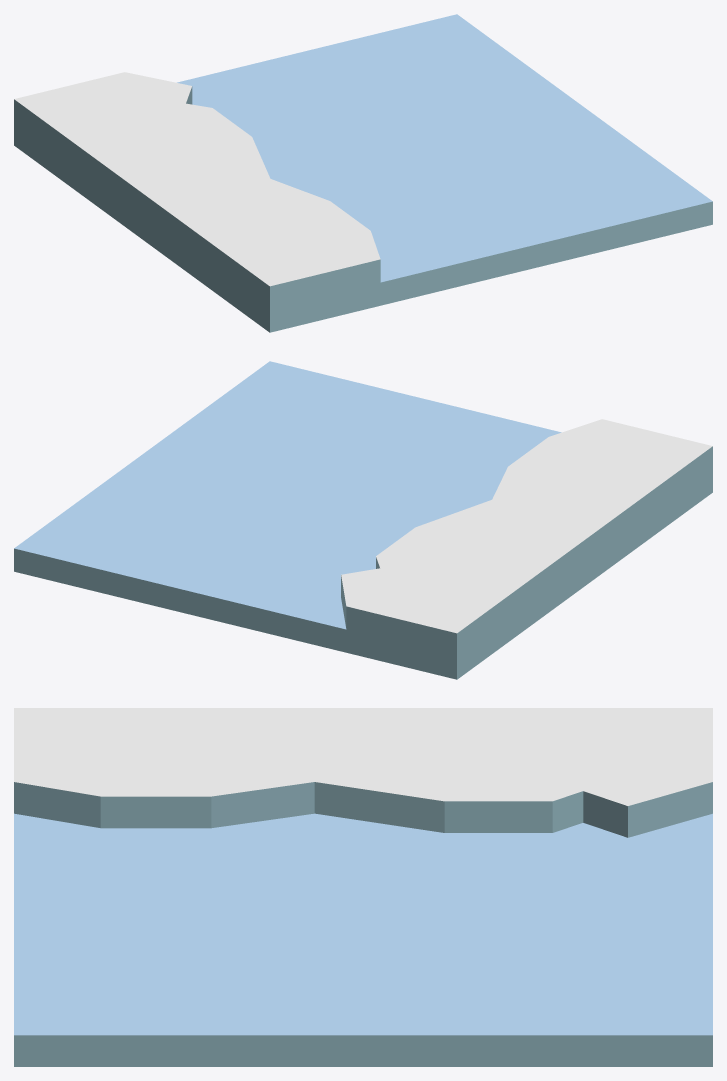
Rendered from Terrain_Modular_Tiles_Snow_Ice_Water_Edge_Straight_01.fbx.
The picture shows the model from 3 angles, top to bottom: view 1: azimuth 30°, elevation 25°; view 2: azimuth 150°, elevation 25°; view 3: azimuth 270°, elevation 25°; orthographic projection. The views are drawn at different scales.
Parts seen in each view (by area): view 1: Terrain_Modular_Tiles_Snow_Ice_Water_Edge_Straight_01; view 2: Terrain_Modular_Tiles_Snow_Ice_Water_Edge_Straight_01; view 3: Terrain_Modular_Tiles_Snow_Ice_Water_Edge_Straight_01.
Part boxes in pixels (<box>): Terrain_Modular_Tiles_Snow_Ice_Water_Edge_Straight_01: <box>14,14,712,332</box>; Terrain_Modular_Tiles_Snow_Ice_Water_Edge_Straight_01: <box>14,361,712,679</box>; Terrain_Modular_Tiles_Snow_Ice_Water_Edge_Straight_01: <box>14,708,712,1066</box>.
Bounding box in the file's own units: 3000 × 300 × 3000.
